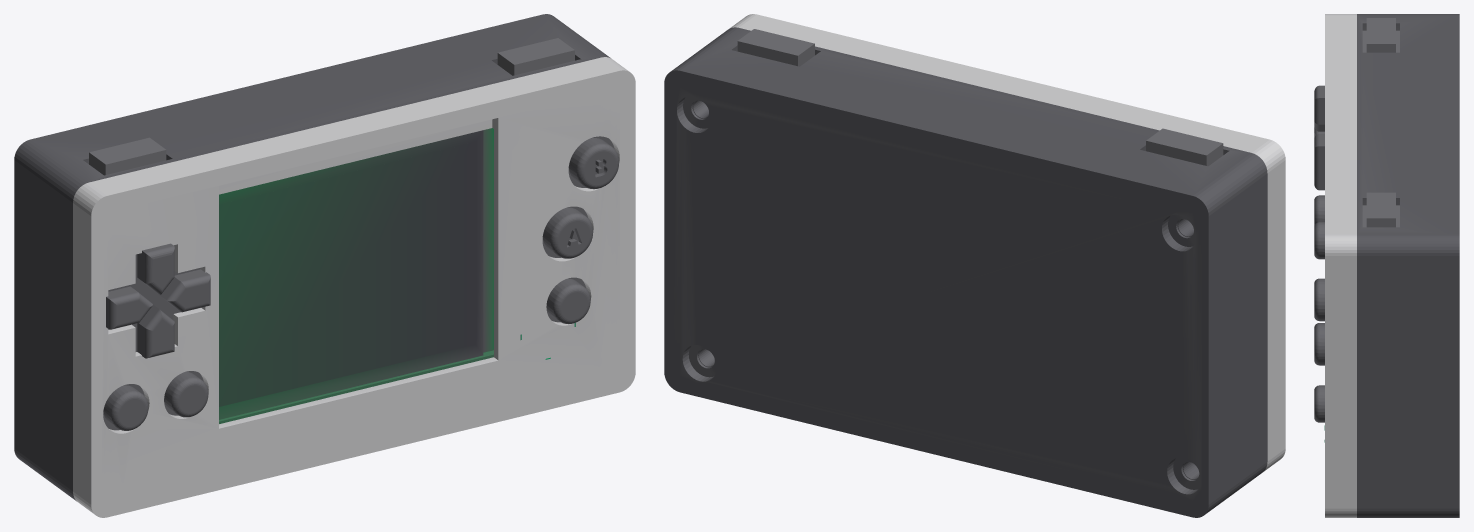
The model's file is assembly_closed.glb.
The picture shows the model from 3 angles, left to right: view 1: azimuth 30°, elevation 25°; view 2: azimuth 150°, elevation 25°; view 3: azimuth 270°, elevation 25°; orthographic projection. The views are drawn at different scales.
Visible parts, largest first — view 1: Top_V7, Board, Bottom_V7, Btn_L, Btn_R, Shoulder_R, Shoulder_L; view 2: Bottom_V7, Top_V7, Shoulder_L, Shoulder_R; view 3: Bottom_V7, Top_V7, Btn_L, Btn_R, Shoulder_R, Shoulder_L.
Part boxes in pixels (bbox=[...]): Top_V7: bbox=[73, 57, 635, 517]; Board: bbox=[219, 128, 575, 423]; Bottom_V7: bbox=[14, 14, 610, 501]; Btn_L: bbox=[103, 243, 210, 430]; Btn_R: bbox=[542, 136, 619, 324]; Shoulder_R: bbox=[497, 38, 574, 75]; Shoulder_L: bbox=[89, 137, 166, 175]; Bottom_V7: bbox=[664, 27, 1267, 517]; Top_V7: bbox=[729, 14, 1285, 471]; Shoulder_L: bbox=[1146, 128, 1223, 166]; Shoulder_R: bbox=[737, 29, 814, 66]; Bottom_V7: bbox=[1357, 14, 1459, 517]; Top_V7: bbox=[1325, 14, 1356, 517]; Btn_L: bbox=[1314, 85, 1324, 259]; Btn_R: bbox=[1314, 278, 1324, 422]; Shoulder_R: bbox=[1362, 192, 1399, 227]; Shoulder_L: bbox=[1362, 18, 1399, 52].
Bounding box in the file's own units: 103 × 59.8 × 27.3.
